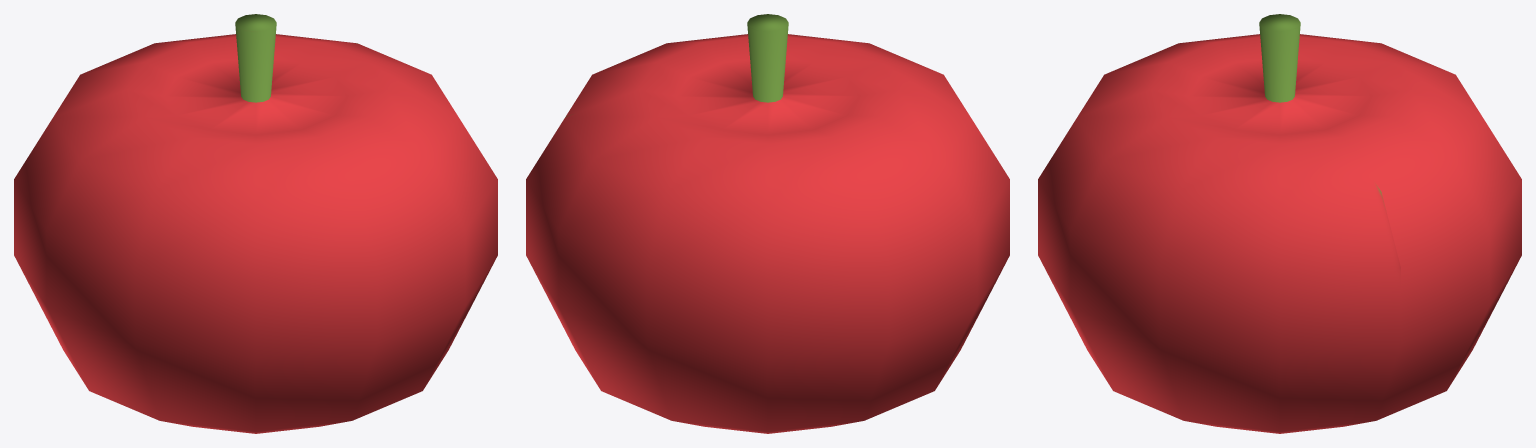
File: Tomato.glb
3 views of the same model, side by side, from view 1: azimuth 30°, elevation 25°; view 2: azimuth 150°, elevation 25°; view 3: azimuth 270°, elevation 25° (orthographic).
Visible parts, largest first — view 1: Tomato; view 2: Tomato; view 3: Tomato.
Boxes of the visible parts, x1,y1,x2,y2 form: Tomato: (14, 14, 497, 433); Tomato: (526, 14, 1009, 433); Tomato: (1038, 14, 1521, 433).
Size of the model in its own units: 2.52 by 2.05 by 2.52.
Materials: 1 (1 with a texture image).
